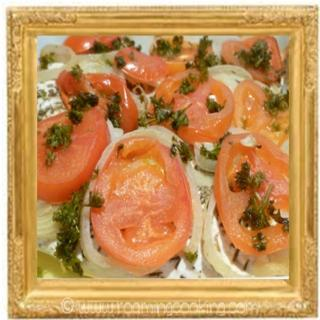tomato: (84, 137, 192, 270), (213, 130, 290, 259), (146, 67, 234, 146), (34, 112, 106, 206), (50, 68, 139, 134), (113, 45, 189, 94), (233, 81, 290, 146), (219, 32, 285, 86), (146, 34, 210, 62), (63, 35, 133, 56)
